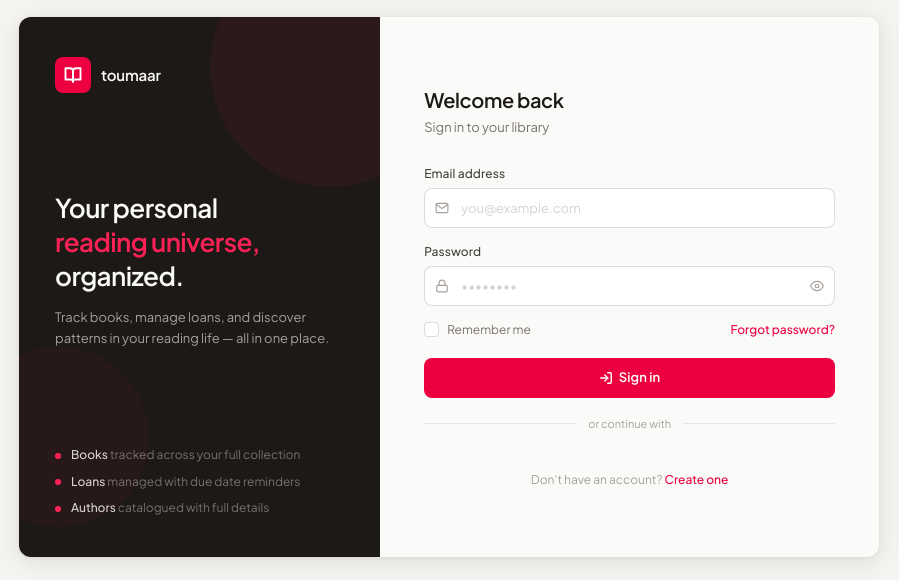
Test: LoginPage › shows an error when submitted with only the email filled
Type "a@b.com" into the field labelled "Email address".
click(630, 208); type("a@b.com")  # box left=424, top=188, right=835, bottom=228
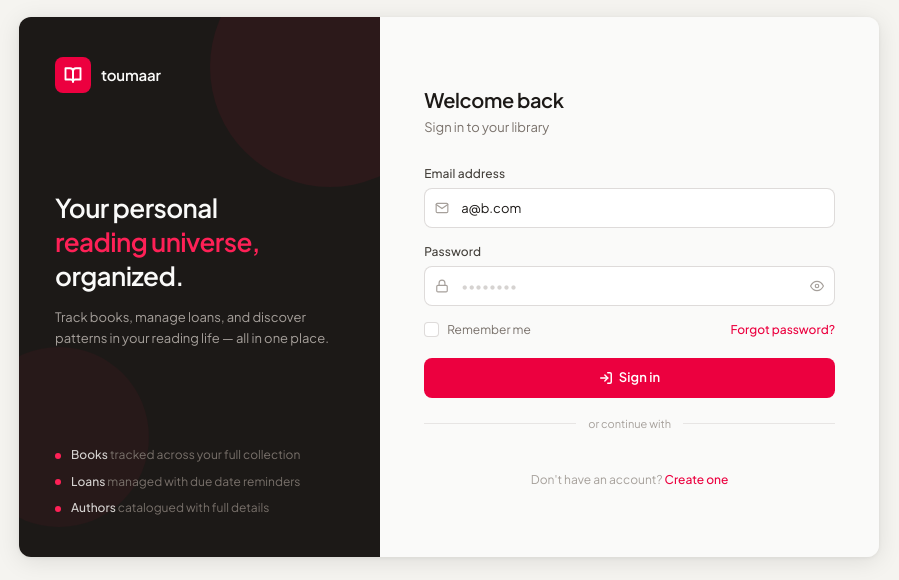
Click the button "Sign in".
click(630, 378)  # box left=424, top=358, right=835, bottom=398
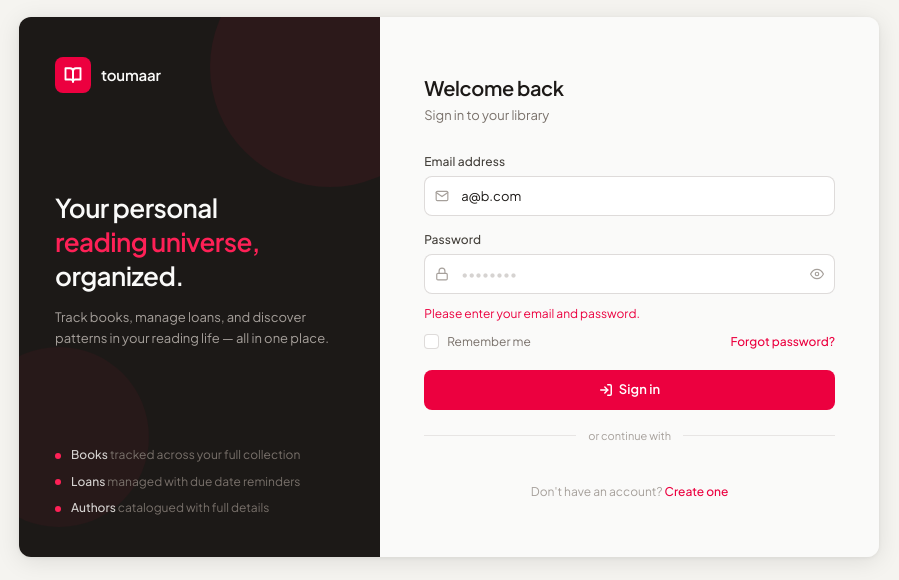
Expected: the text "Please enter your email and password." is shown, left=424, top=306, right=640, bottom=320
